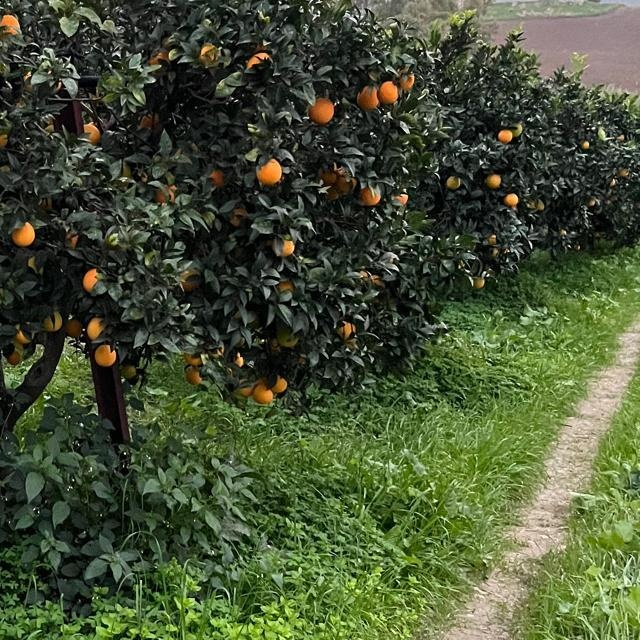orange: (175, 263, 205, 291), (11, 220, 37, 244), (257, 159, 281, 183), (198, 41, 222, 65), (310, 99, 332, 123), (274, 234, 296, 258), (93, 343, 117, 365), (228, 203, 250, 225), (83, 266, 103, 290), (358, 184, 382, 204), (337, 316, 357, 340), (46, 310, 66, 334), (379, 79, 397, 103), (358, 85, 376, 109), (0, 16, 18, 36), (120, 363, 140, 381), (86, 314, 102, 336), (155, 187, 173, 205), (186, 366, 202, 384), (248, 53, 268, 67), (255, 387, 273, 401), (273, 376, 287, 394), (279, 331, 297, 345), (67, 320, 81, 336), (399, 72, 413, 88), (82, 125, 96, 141), (210, 169, 224, 185), (208, 344, 226, 356), (185, 354, 205, 364), (496, 128, 510, 142), (340, 177, 354, 191), (16, 331, 32, 343), (69, 233, 81, 249), (149, 55, 167, 65), (0, 126, 8, 148), (277, 280, 291, 292), (141, 115, 157, 125), (322, 171, 334, 183), (241, 384, 253, 396), (370, 274, 382, 286), (397, 192, 409, 204), (449, 176, 461, 188), (487, 174, 499, 186), (5, 351, 19, 361), (488, 233, 498, 245), (506, 195, 518, 205), (510, 124, 520, 136), (359, 270, 371, 280), (474, 278, 484, 288), (235, 355, 243, 367), (24, 70, 32, 82), (256, 378, 270, 384), (537, 202, 545, 210), (490, 249, 498, 257), (582, 140, 588, 150), (329, 190, 339, 196), (620, 168, 628, 174), (618, 135, 624, 141)
